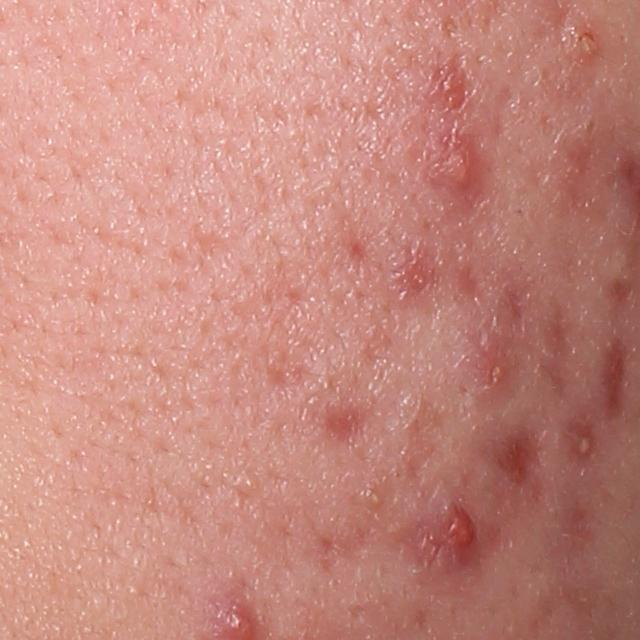atrophic_scar: (538, 300, 578, 397), (324, 403, 392, 453), (498, 430, 544, 497), (484, 78, 521, 159), (449, 255, 487, 309)
papule: (412, 503, 478, 574), (435, 126, 484, 195), (467, 340, 518, 395), (393, 248, 445, 300), (562, 20, 597, 59)
pustule: (565, 419, 598, 464)
